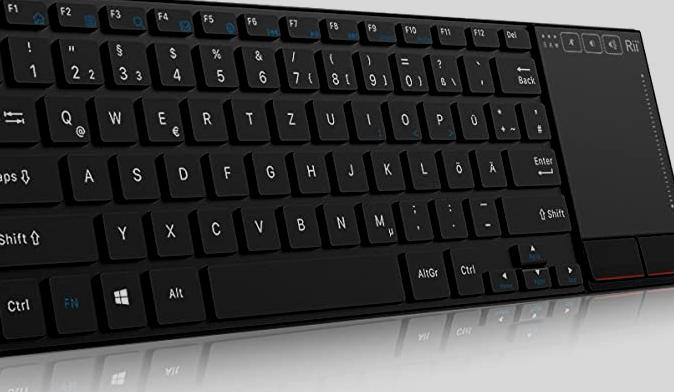0: (392, 49, 427, 92)
1: (6, 33, 53, 83)
2: (56, 35, 102, 85)
3: (105, 37, 149, 86)
4: (153, 39, 194, 86)
5: (197, 40, 238, 88)
6: (240, 42, 280, 89)
7: (281, 44, 317, 90)
8: (319, 45, 354, 91)
9: (356, 47, 391, 91)
a: (66, 150, 112, 201)
accent: (461, 50, 493, 92)
ae: (474, 144, 506, 186)
alt-left: (147, 264, 205, 324)
altgr-right: (403, 246, 449, 299)
b: (280, 200, 321, 247)
c: (195, 205, 238, 253)
caret: (1, 31, 25, 82)
comma: (397, 194, 432, 239)
d: (162, 149, 206, 198)
del: (495, 51, 541, 93)
e: (140, 93, 183, 142)
enter: (508, 140, 562, 185)
f: (208, 148, 248, 196)
g: (250, 148, 290, 194)
h: (291, 147, 329, 193)
hash: (519, 98, 551, 139)
i: (350, 95, 385, 139)
j: (331, 146, 368, 191)
k: (369, 146, 404, 190)
keyboard: (1, 1, 674, 361)
l: (405, 146, 439, 188)
m: (360, 197, 397, 243)
minus: (466, 193, 500, 236)
n: (322, 196, 359, 245)
o: (386, 96, 421, 139)
oe: (440, 145, 474, 188)
p: (422, 96, 455, 139)
plus: (488, 96, 519, 139)
point: (433, 194, 467, 237)
q: (42, 91, 90, 144)
r: (187, 94, 228, 141)
s: (114, 149, 160, 200)
shift-left: (1, 210, 98, 268)
shift-lock: (1, 151, 64, 206)
shift-right: (501, 190, 572, 234)
space: (205, 252, 402, 318)
ss: (427, 50, 460, 92)
strg-left: (1, 275, 45, 340)
strg-right: (447, 248, 484, 295)
t: (231, 94, 269, 139)
tab: (1, 90, 40, 144)
u: (311, 95, 348, 140)
ue: (456, 96, 488, 139)
v: (239, 202, 280, 250)
w: (93, 91, 136, 142)
x: (149, 206, 193, 256)
y: (101, 208, 145, 259)
z: (272, 95, 310, 140)
